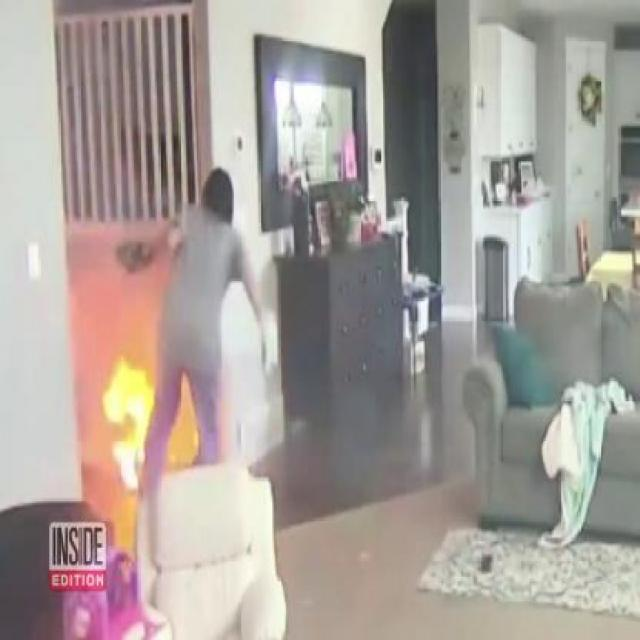fire: (94, 336, 150, 482)
smoke: (70, 120, 101, 494), (77, 220, 114, 322)
